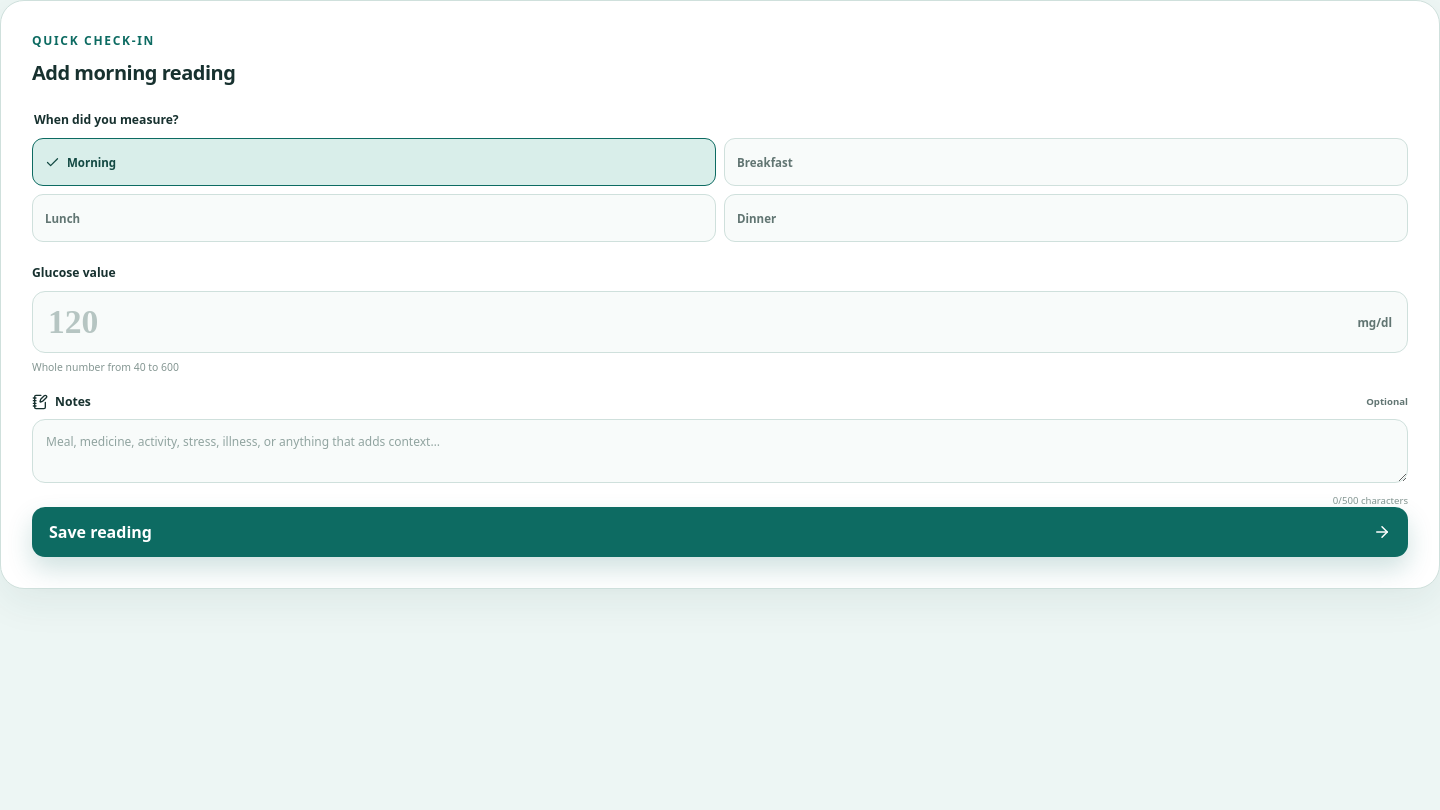
Test: ReadingForm › rejects a decimal value with the assignment range message
In the number field labelled "Glucose value mg/dl Whole number from 40 to 600": (695, 322) x1=33 y1=292 x2=1357 y2=352, type "120.5"
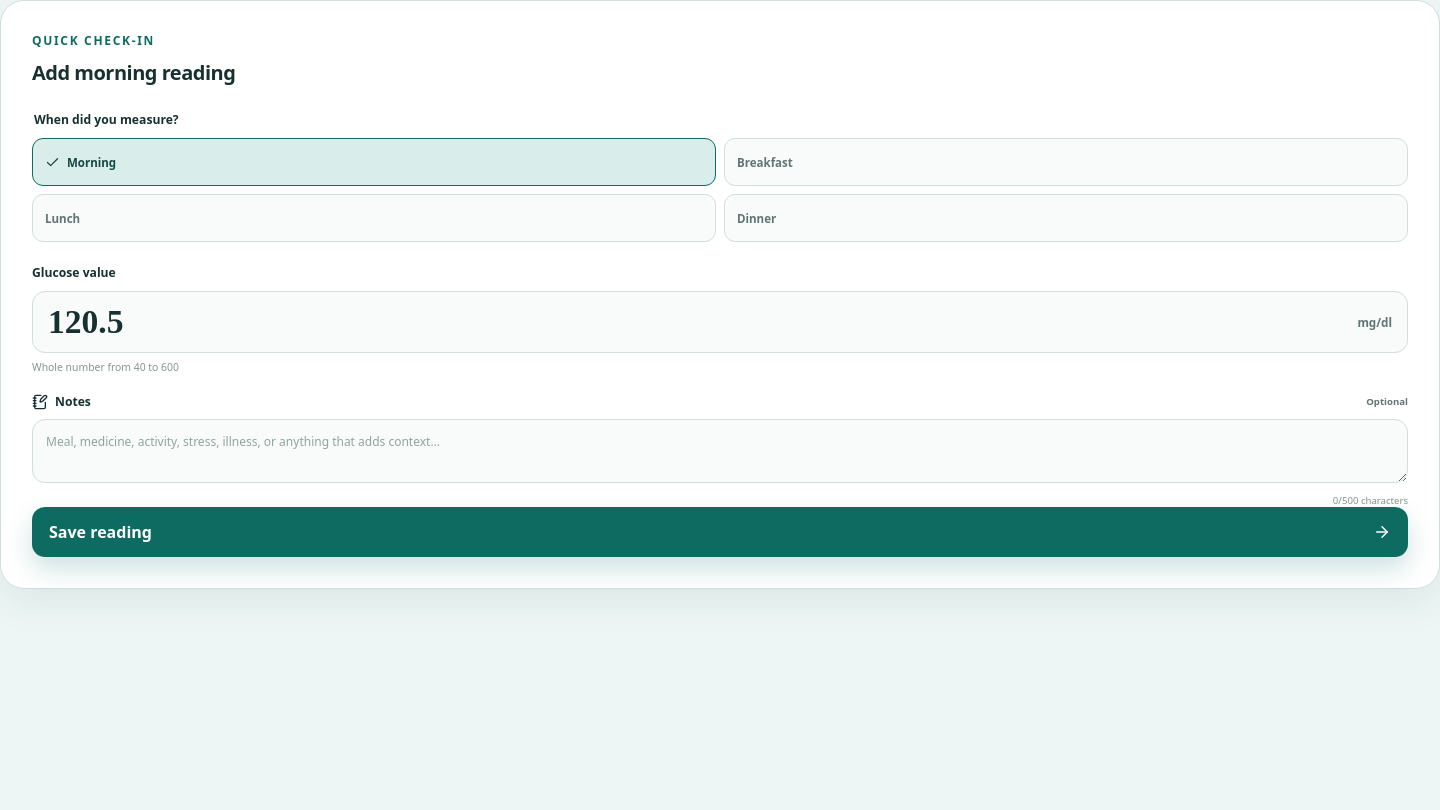
Click the button "Save reading": (100, 532) x1=32 y1=507 x2=1408 y2=557
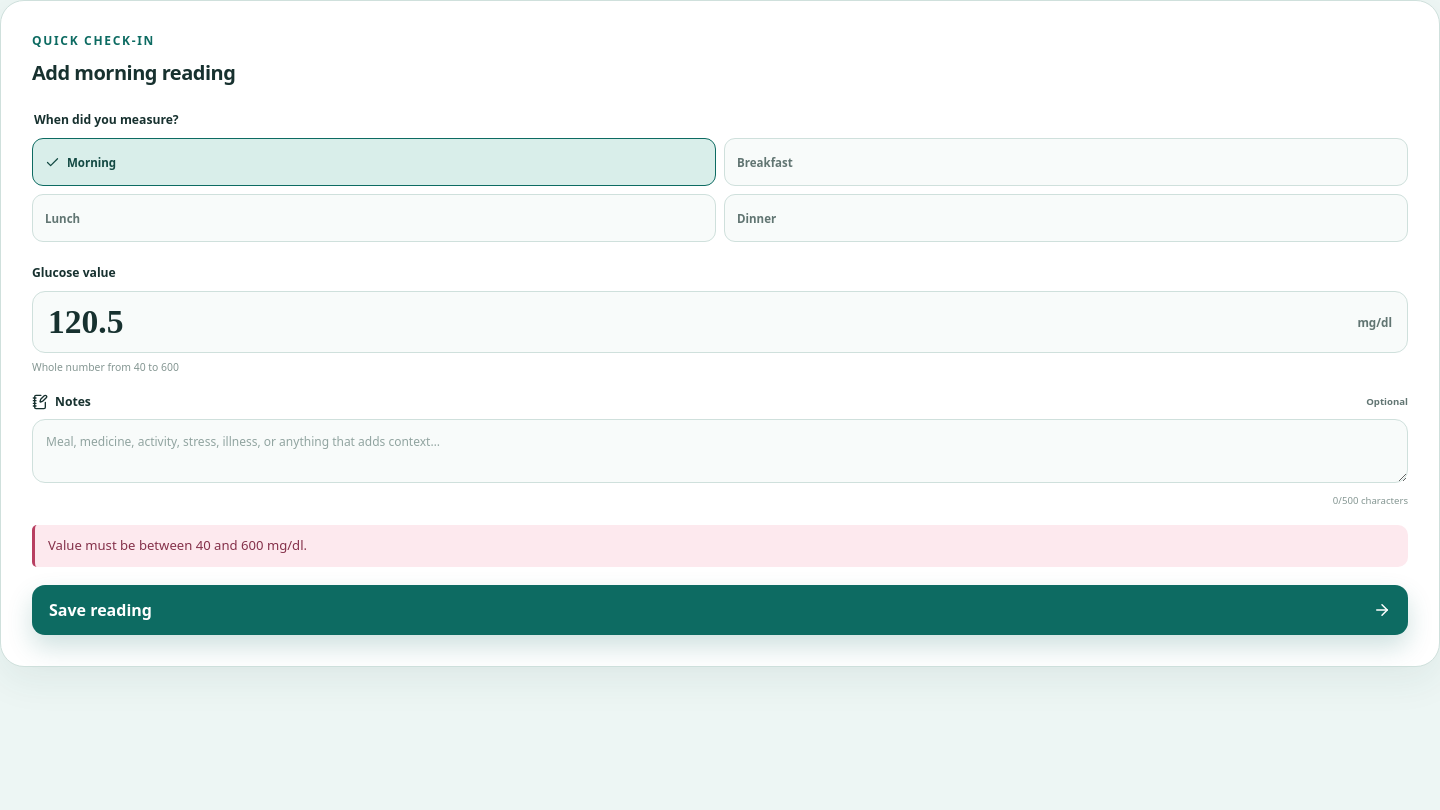
Now the message reads "Value must be between 40 and 600 mg/dl.", box x1=48 y1=536 x2=307 y2=554
